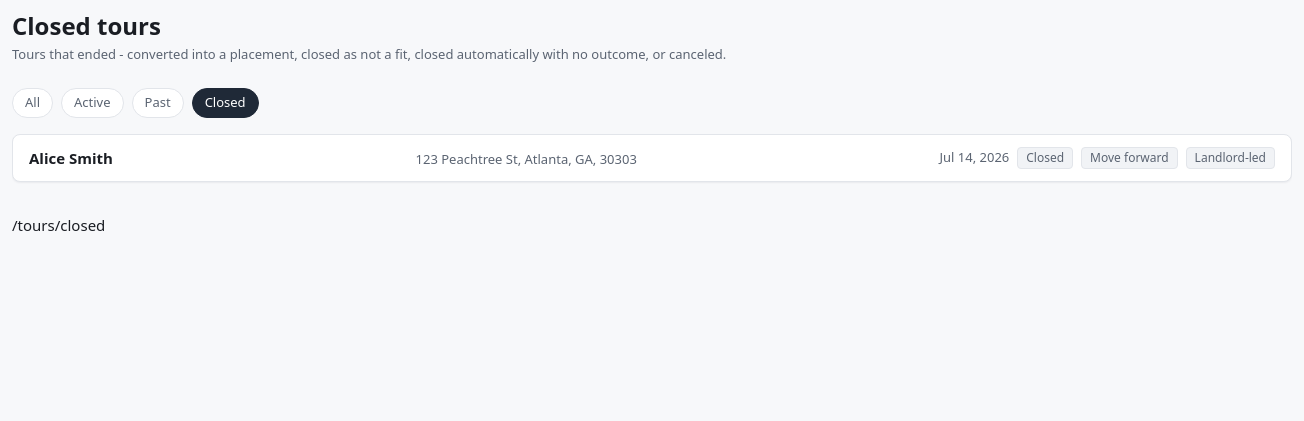
ToursPage › clicking Active from the Closed view returns to the two main sections
expect the element named "Closed tours" is shown: met, box [12,134,1292,182]
Click the link "Active" at (92, 103), box [61,88,124,118]
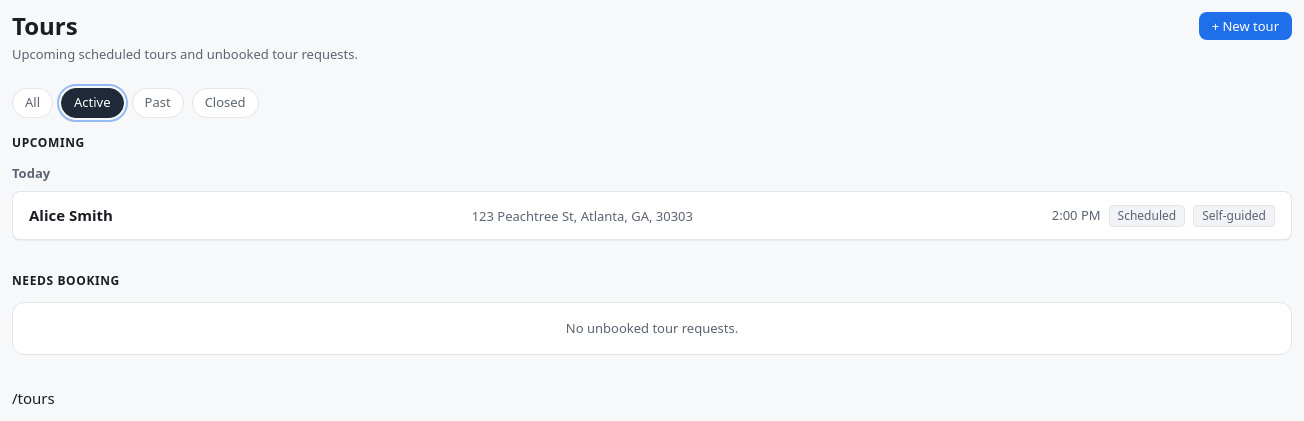
expect the heading "Tours" is shown: met, box [12,12,78,41]
expect the heading "Closed tours" is gone: met
expect the element named "Upcoming tours" is shown: met, box [12,134,1292,240]
